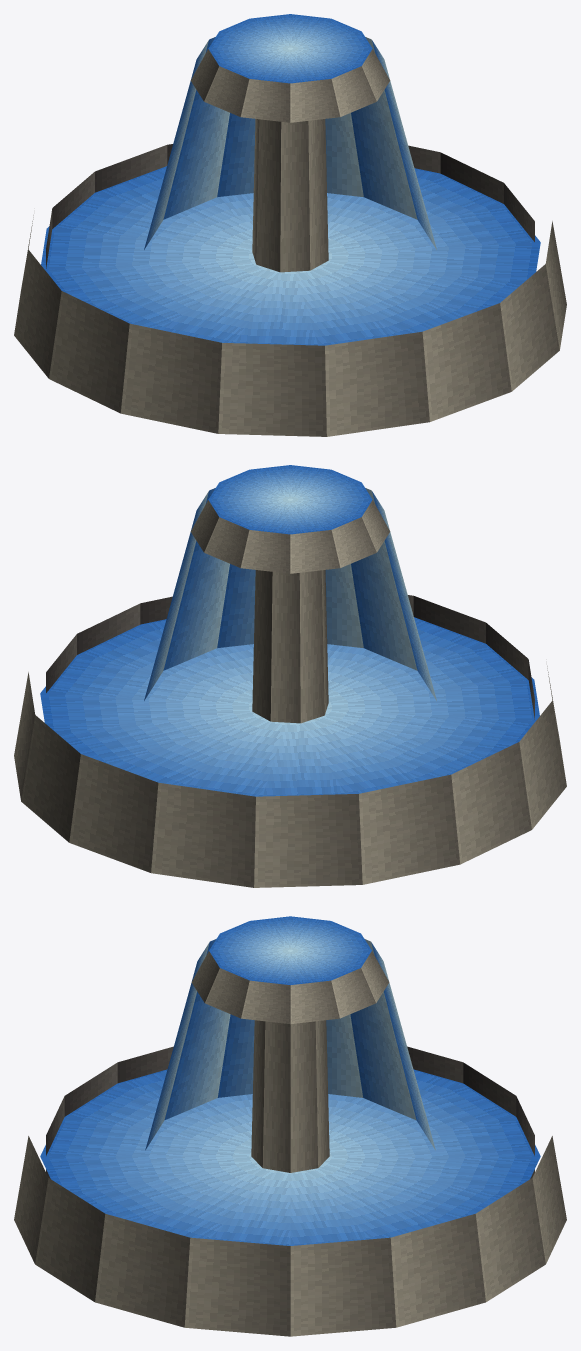
The model's file is fountain.glb.
3 views of the same model, one above another, from view 1: azimuth 30°, elevation 25°; view 2: azimuth 150°, elevation 25°; view 3: azimuth 270°, elevation 25° (orthographic).
Parts seen in each view (by area): view 1: fountain; view 2: fountain; view 3: fountain.
Part boxes in pixels (x1,y1,x2,y2): fountain: [14, 14, 566, 436]; fountain: [14, 465, 566, 887]; fountain: [14, 916, 566, 1336].
Size of the model in its own units: 1.9 by 1.02 by 1.9.
Materials: 1 (1 with a texture image).
